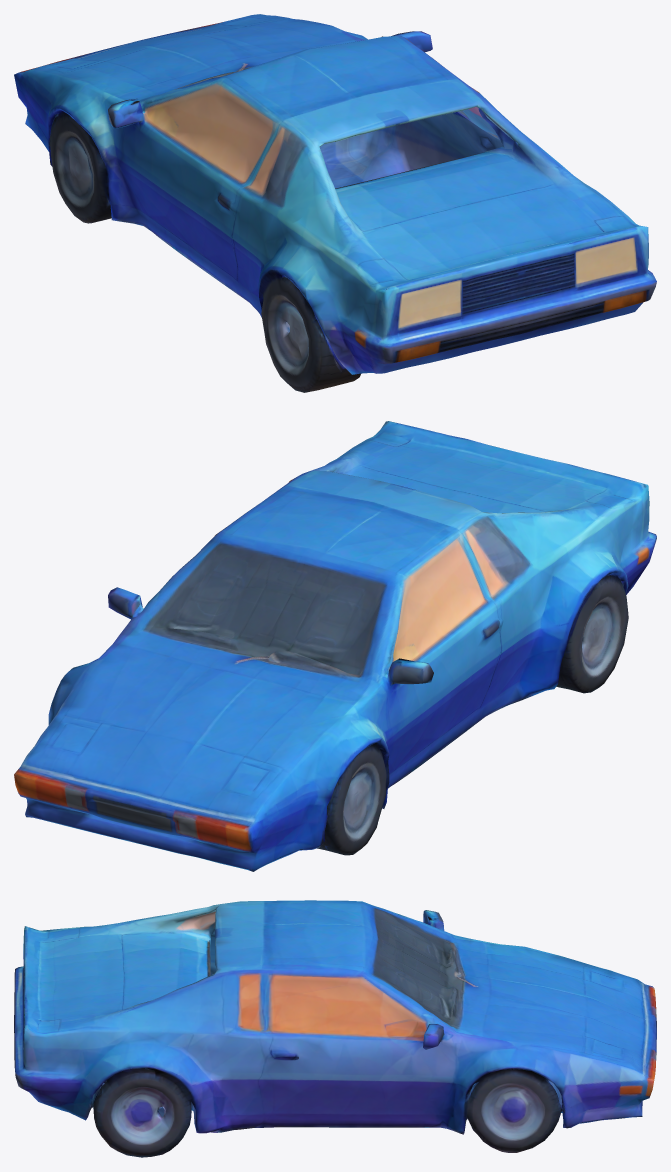
The model's file is Coche_lowpoly_ambient_0215222145_texture.fbx.
The picture shows the model from 3 angles, top to bottom: view 1: azimuth 30°, elevation 25°; view 2: azimuth 150°, elevation 25°; view 3: azimuth 270°, elevation 25°; orthographic projection. The views are drawn at different scales.
Visible parts, largest first — view 1: Mesh1_Mesh1.045; view 2: Mesh1_Mesh1.045; view 3: Mesh1_Mesh1.045.
Part boxes in pixels (bbox=[...]): Mesh1_Mesh1.045: bbox=[14, 14, 656, 392]; Mesh1_Mesh1.045: bbox=[14, 421, 656, 871]; Mesh1_Mesh1.045: bbox=[14, 900, 656, 1157].
Bounding box in the file's own units: 93.88 × 57.8 × 200.
1 material, 1 textured.
